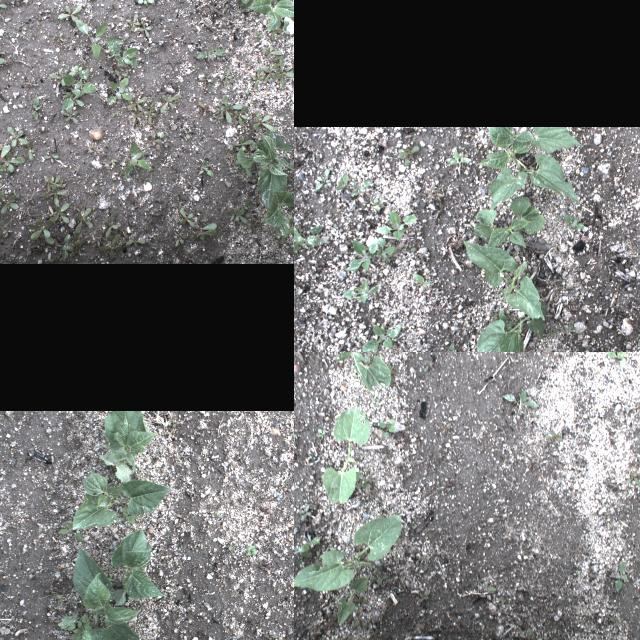crop: (476, 126, 578, 212), (294, 516, 401, 592), (72, 545, 143, 640), (73, 464, 174, 528), (462, 241, 544, 319), (227, 129, 294, 210), (323, 407, 371, 503), (475, 300, 548, 352), (473, 196, 545, 248), (110, 528, 164, 596), (100, 412, 158, 466), (323, 352, 392, 391), (497, 126, 581, 152), (260, 184, 294, 244), (336, 574, 369, 626), (237, 0, 294, 30)
weed: (76, 18, 124, 58), (62, 68, 96, 110), (374, 210, 418, 240), (56, 608, 96, 640), (346, 234, 378, 270), (362, 324, 402, 352), (125, 140, 153, 178), (294, 225, 326, 256), (342, 278, 380, 304), (0, 140, 26, 175), (502, 391, 538, 414), (215, 95, 243, 123), (455, 579, 497, 597), (26, 220, 54, 244), (445, 149, 473, 173), (58, 520, 88, 542), (99, 234, 123, 260), (108, 78, 132, 104), (108, 45, 138, 65), (42, 182, 68, 204), (274, 59, 294, 87), (195, 215, 217, 239), (299, 531, 323, 553), (65, 88, 85, 114), (376, 236, 396, 262), (297, 548, 325, 566), (54, 234, 74, 258), (50, 68, 76, 86), (49, 202, 69, 224), (253, 110, 273, 132), (0, 190, 18, 214), (614, 562, 628, 592), (76, 208, 92, 234), (197, 46, 226, 60), (160, 92, 180, 112), (7, 126, 27, 146), (66, 230, 86, 250), (58, 4, 82, 20), (562, 213, 586, 229), (498, 310, 514, 334), (178, 208, 196, 228), (263, 64, 281, 84), (371, 566, 389, 586), (231, 135, 253, 151), (606, 352, 628, 368), (350, 178, 370, 195), (104, 214, 118, 238), (379, 417, 395, 438), (228, 208, 248, 224), (297, 502, 313, 522), (214, 0, 245, 10), (398, 144, 420, 158), (316, 167, 330, 189), (412, 272, 433, 286), (144, 100, 156, 124), (128, 96, 148, 110), (126, 233, 146, 247), (235, 105, 249, 125), (136, 19, 152, 36), (172, 230, 188, 246), (198, 160, 214, 176), (45, 174, 63, 188), (61, 109, 79, 123), (397, 147, 411, 165), (11, 24, 31, 36), (252, 68, 264, 88), (277, 20, 289, 40), (544, 430, 564, 442), (236, 198, 252, 212), (626, 470, 640, 486), (328, 612, 342, 628), (260, 46, 282, 56), (144, 134, 162, 146), (336, 172, 348, 190), (352, 614, 366, 628), (44, 150, 60, 162), (92, 234, 108, 246), (33, 96, 41, 120), (198, 73, 214, 85), (518, 628, 534, 640), (222, 67, 232, 85), (129, 14, 139, 31), (114, 68, 128, 80), (439, 479, 453, 491), (418, 590, 430, 604), (26, 139, 34, 159), (252, 30, 264, 42), (246, 544, 258, 556), (388, 363, 400, 375), (3, 224, 13, 238), (87, 144, 101, 154), (158, 132, 168, 146), (422, 358, 432, 372), (355, 596, 369, 606), (372, 197, 382, 210), (402, 244, 418, 252), (25, 77, 39, 86), (238, 167, 252, 176), (119, 227, 129, 239), (131, 110, 141, 122), (608, 436, 618, 448), (316, 427, 326, 439), (0, 47, 5, 70), (290, 150, 294, 178), (270, 54, 284, 62), (74, 64, 84, 74), (54, 32, 64, 42), (188, 180, 198, 190), (271, 28, 281, 38), (546, 327, 556, 337), (350, 363, 360, 373), (386, 412, 396, 422), (108, 157, 119, 166), (212, 115, 224, 123), (610, 616, 618, 628), (540, 634, 554, 640), (358, 482, 372, 488), (269, 0, 289, 4), (568, 322, 576, 332), (263, 634, 281, 638), (550, 442, 562, 448), (448, 342, 455, 352), (138, 0, 154, 4), (433, 361, 441, 369), (227, 541, 233, 551), (627, 460, 637, 466), (297, 561, 307, 567), (634, 475, 640, 484), (635, 458, 640, 468), (0, 0, 7, 7), (114, 110, 122, 116), (556, 328, 564, 334), (308, 454, 316, 460), (636, 401, 640, 412), (324, 505, 331, 511), (186, 129, 190, 139), (294, 431, 297, 444), (574, 569, 580, 575), (466, 415, 472, 421), (492, 414, 500, 418), (352, 397, 358, 401), (372, 398, 380, 400), (392, 586, 396, 590)
